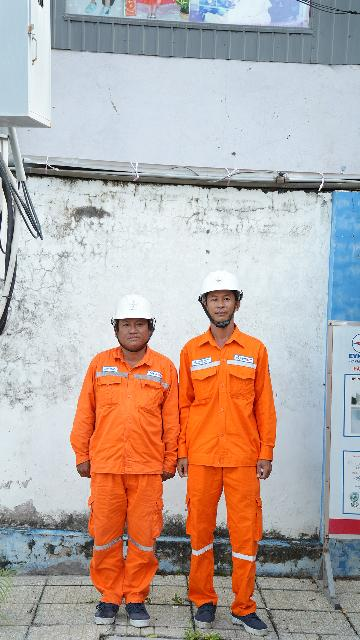helmet: (187, 268, 250, 300), (98, 296, 166, 325)
shoes: (228, 606, 271, 639), (185, 598, 224, 628), (84, 593, 121, 624), (121, 600, 152, 630)
